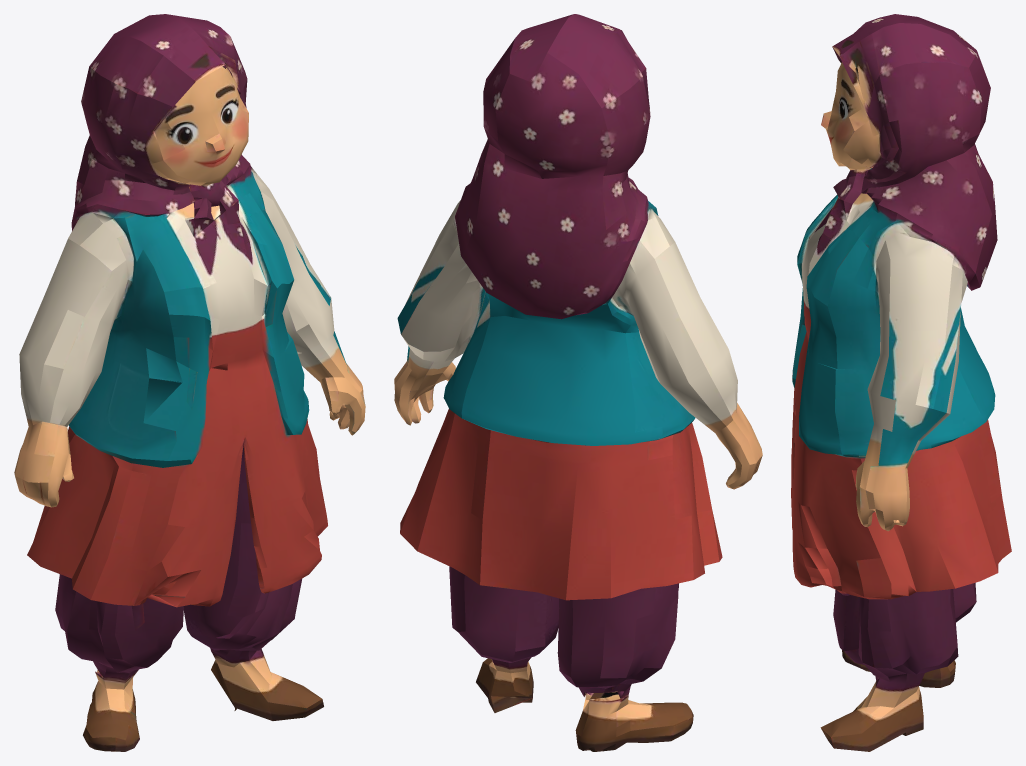
Rendered from aksehirli-teyze.glb.
The picture shows the model from 3 angles, left to right: view 1: azimuth 30°, elevation 25°; view 2: azimuth 150°, elevation 25°; view 3: azimuth 270°, elevation 25°; orthographic projection. The views are drawn at different scales.
Visible parts, largest first — view 1: Mesh0; view 2: Mesh0; view 3: Mesh0.
Boxes of the visible parts, box(x1,y1,x2,y2) form: Mesh0: box(14, 14, 365, 751); Mesh0: box(394, 14, 762, 751); Mesh0: box(791, 14, 1011, 751).
Bounding box in the file's own units: 1 × 1.9 × 0.5598.
Materials: 1 (1 with a texture image).
